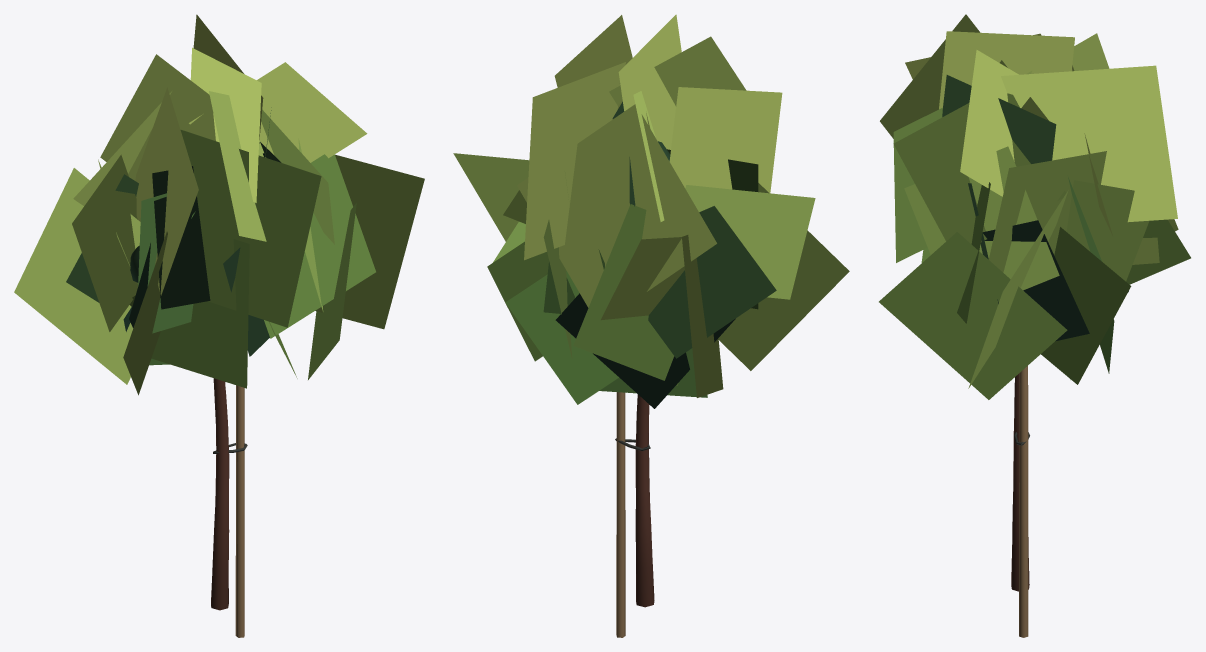
Rendered from BroadleafYoung.fbx.
The picture shows the model from 3 angles, left to right: view 1: azimuth 30°, elevation 25°; view 2: azimuth 150°, elevation 25°; view 3: azimuth 270°, elevation 25°; orthographic projection. The views are drawn at different scales.
Parts seen in each view (by area): view 1: BroadleafYoung; view 2: BroadleafYoung; view 3: BroadleafYoung.
Part boxes in pixels (x1,y1,x2,y2): BroadleafYoung: [14, 14, 424, 637]; BroadleafYoung: [453, 14, 849, 637]; BroadleafYoung: [879, 14, 1190, 637].
Size of the model in its own units: 2.53 by 4 by 1.9.
